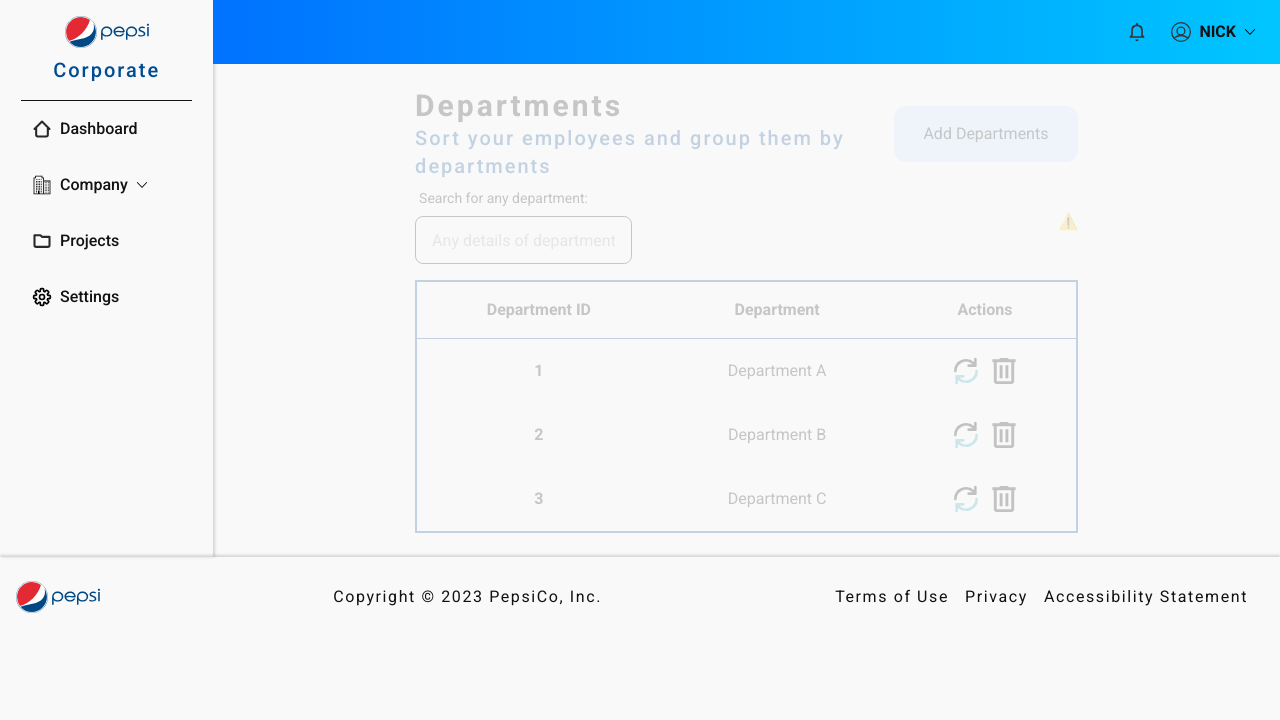
Test: Test modal hidden and display status when button is clicked › Modal is hidden when the document body is clicked
This screenshot has width=1280, height=720.
Click the button "Add Departments": (986, 134) [894, 106, 1078, 162]
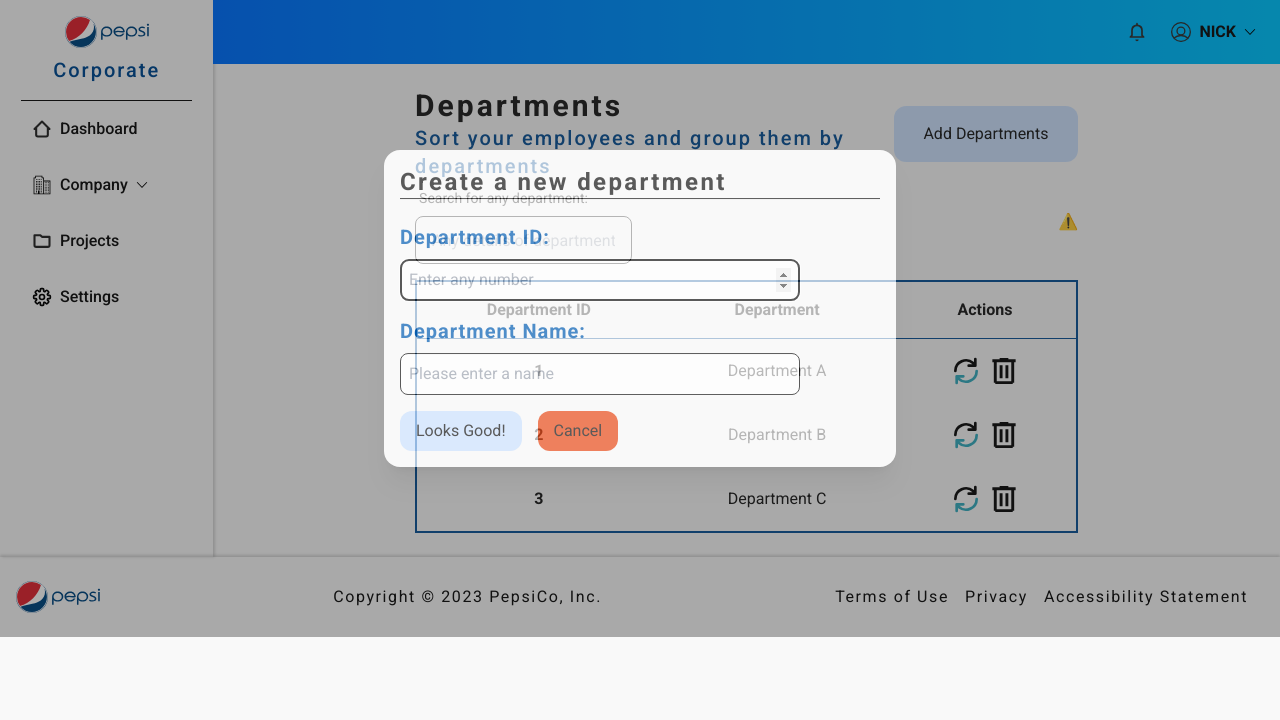
Click the element that starts with "Corporate": (640, 677) [0, 0, 1279, 719]
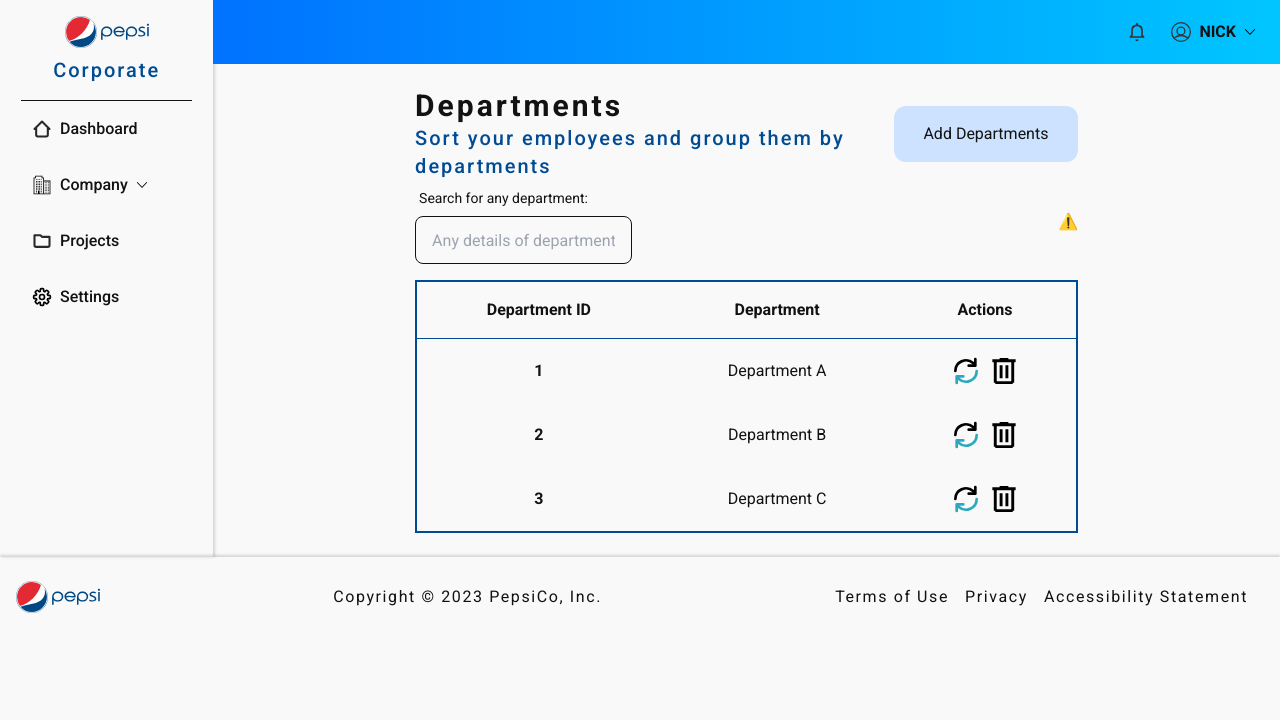
Check: the button "Cancel" is gone
